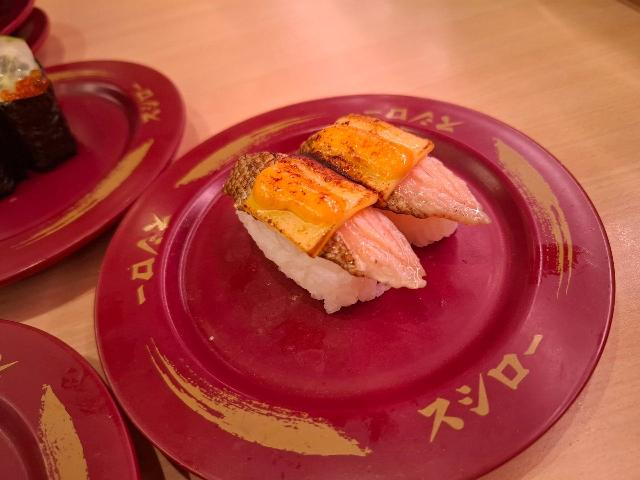janred: (129, 117, 585, 447), (3, 60, 178, 231), (0, 317, 130, 480), (24, 15, 60, 64), (3, 5, 28, 39)
